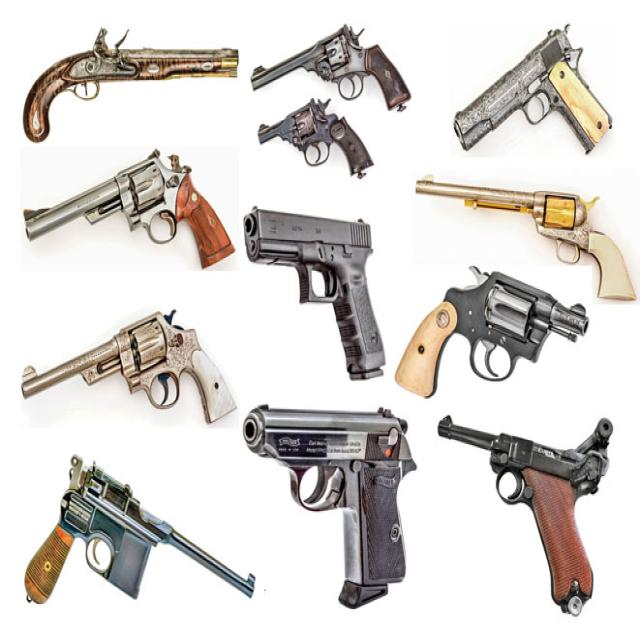HandGun: (242, 404, 417, 609), (24, 454, 257, 605), (438, 418, 614, 617), (415, 174, 637, 299), (395, 266, 590, 399), (24, 148, 230, 270), (22, 32, 240, 143), (245, 206, 382, 382), (22, 311, 236, 423), (453, 26, 613, 152), (250, 25, 411, 112), (259, 99, 375, 179)
